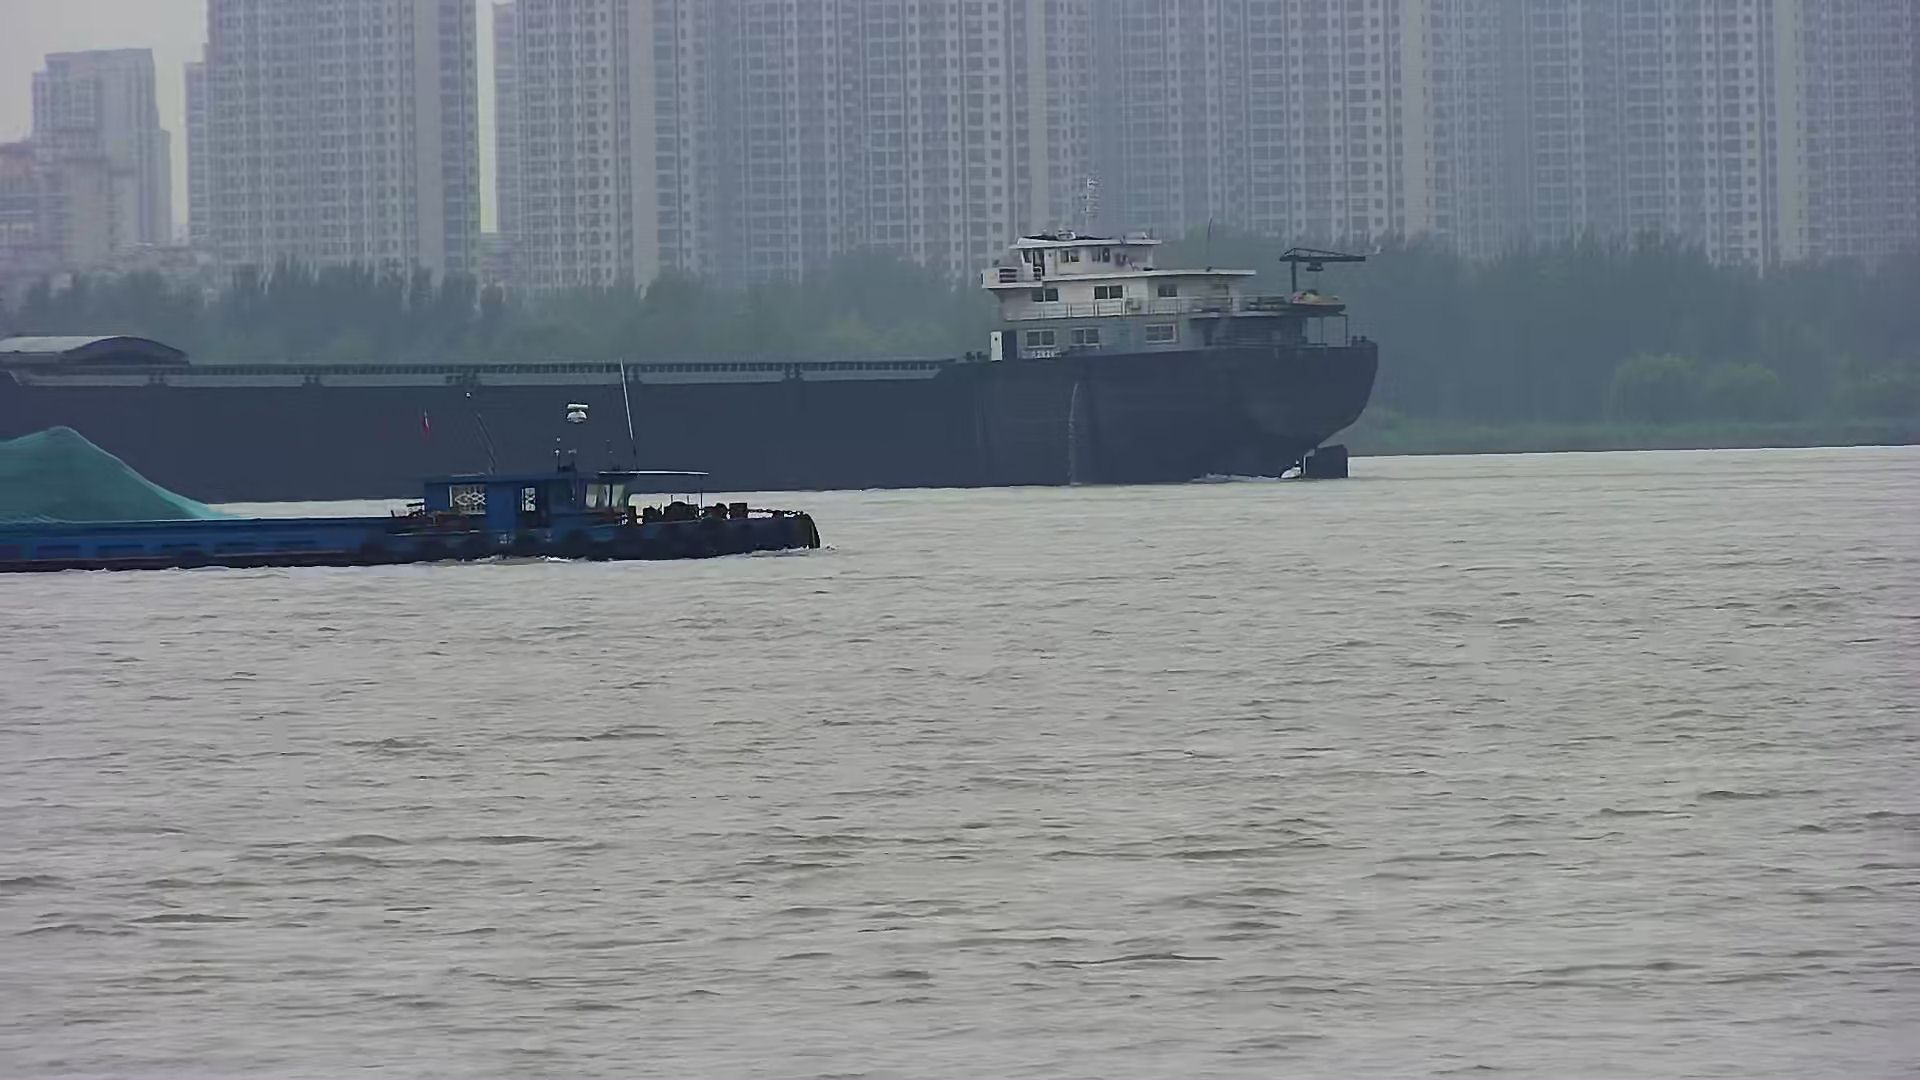ship: (1, 182, 1381, 504), (1, 392, 824, 572)
